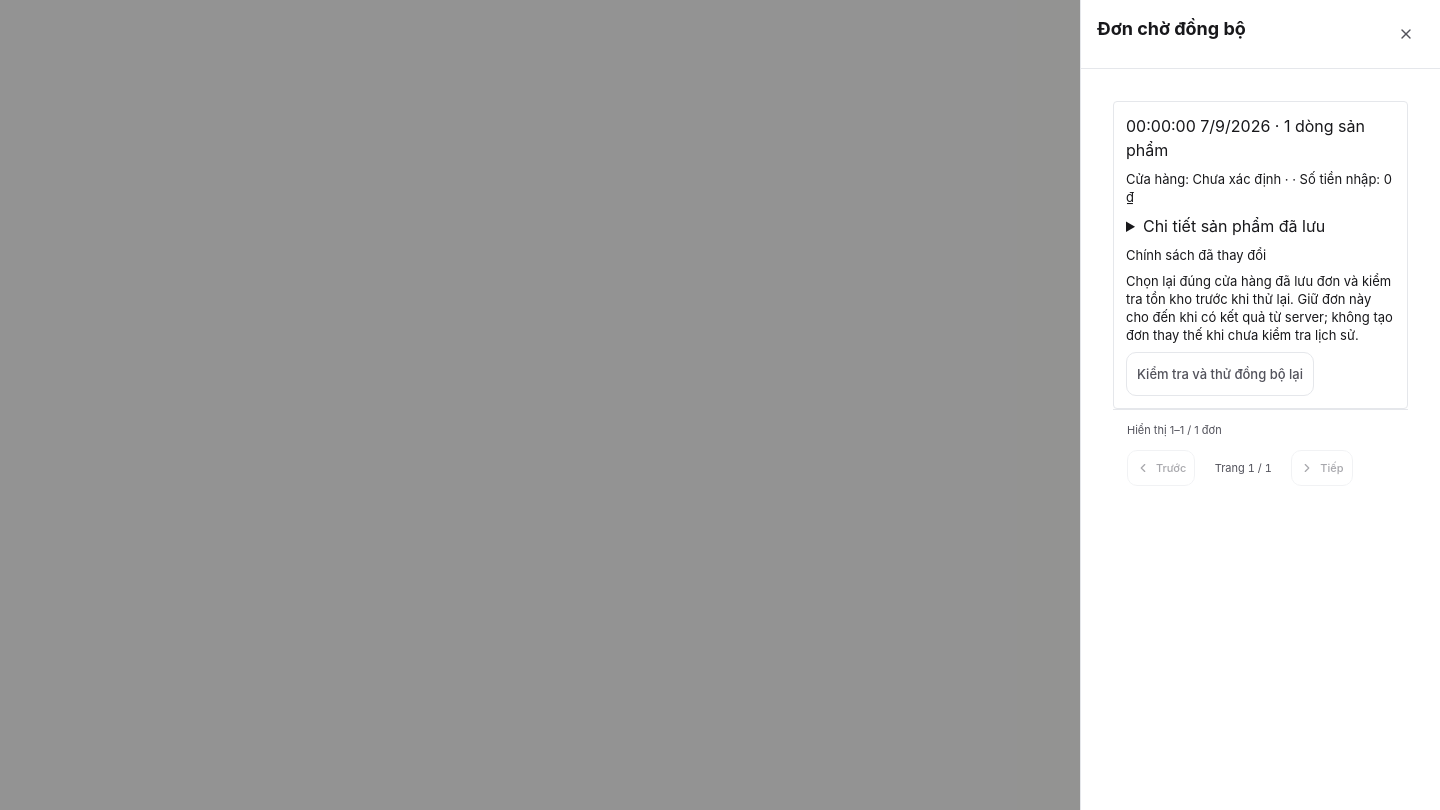
Test: provides a retry action and keeps a rejected draft visible with its error
Click the button "Kiểm tra và thử đồng bộ lại" at (1220, 374), box [1126,352,1314,396]
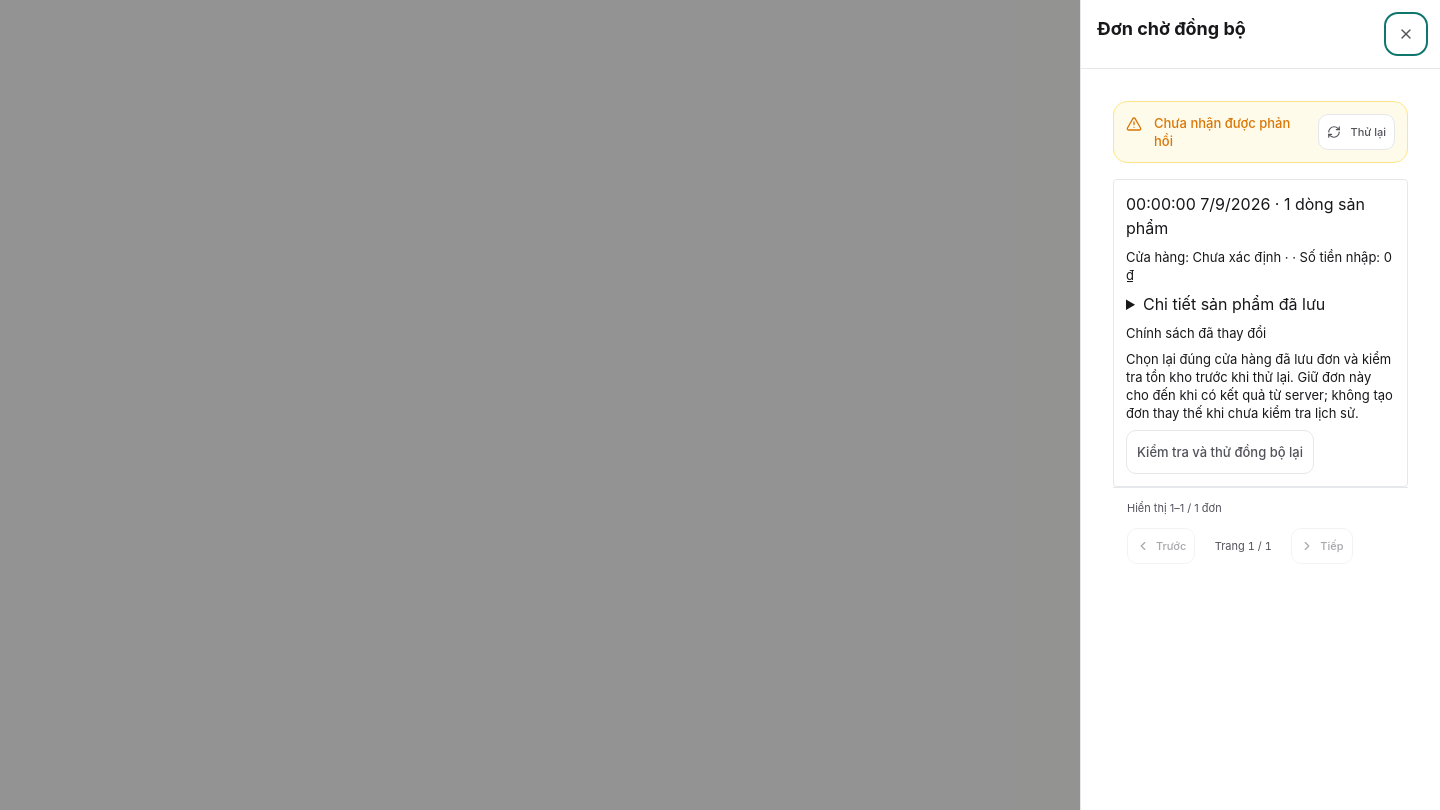
Expected: the text "Chính sách đã thay đổi" is shown, [1126,325,1266,341]
Expected: the text "Chưa nhận được phản hồi" is shown, [1154,114,1306,150]
